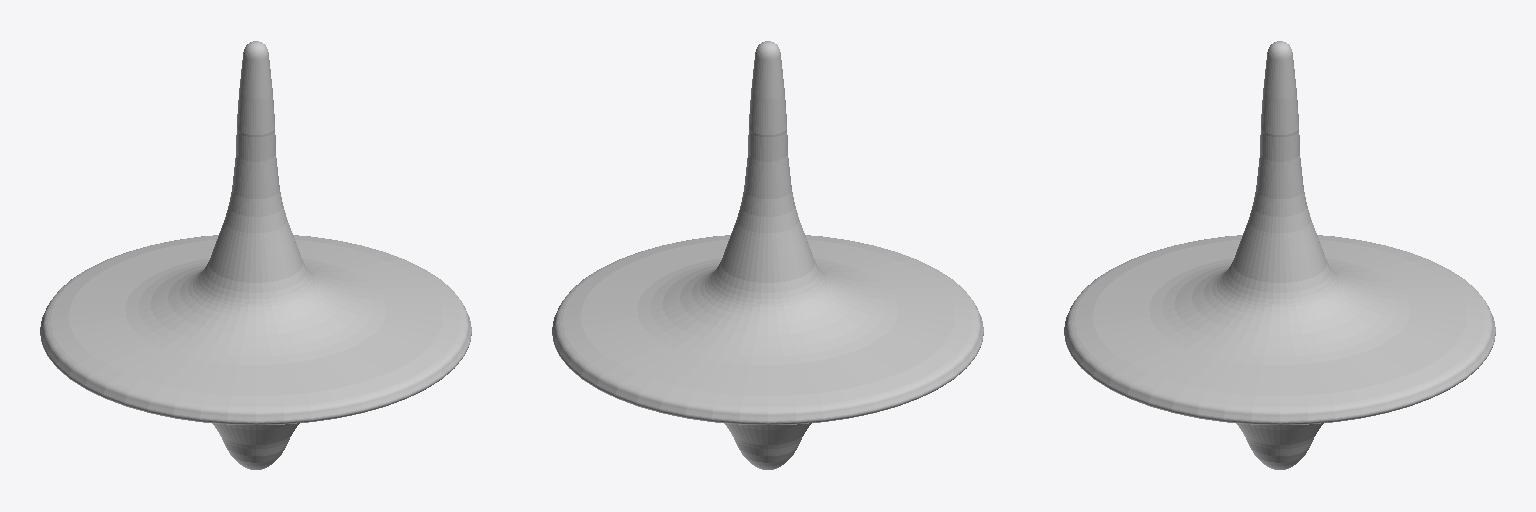
The model's file is totem.obj.
3 views of the same model, side by side, from view 1: azimuth 30°, elevation 25°; view 2: azimuth 150°, elevation 25°; view 3: azimuth 270°, elevation 25° (orthographic).
Parts seen in each view (by area): view 1: Lathe_1; view 2: Lathe_1; view 3: Lathe_1.
Boxes of the visible parts, box(x1,y1,x2,y2) form: Lathe_1: box(40, 41, 471, 469); Lathe_1: box(552, 41, 983, 469); Lathe_1: box(1064, 41, 1495, 469).
Bounding box in the file's own units: 3.29 × 3.59 × 3.29.